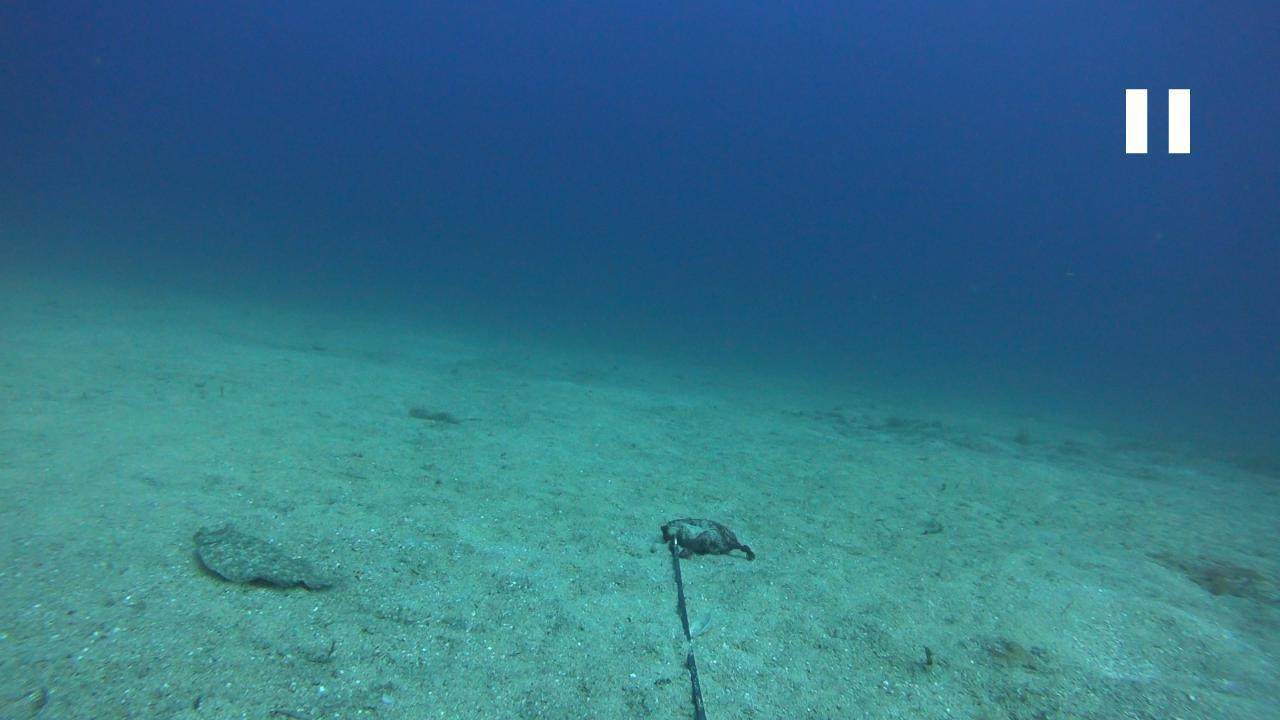bothus: (188, 516, 339, 595)
